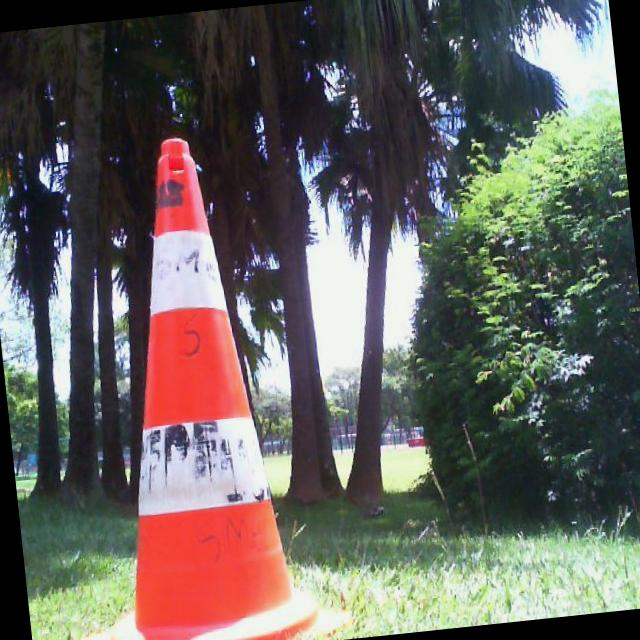Cone: (27, 123, 353, 640)
